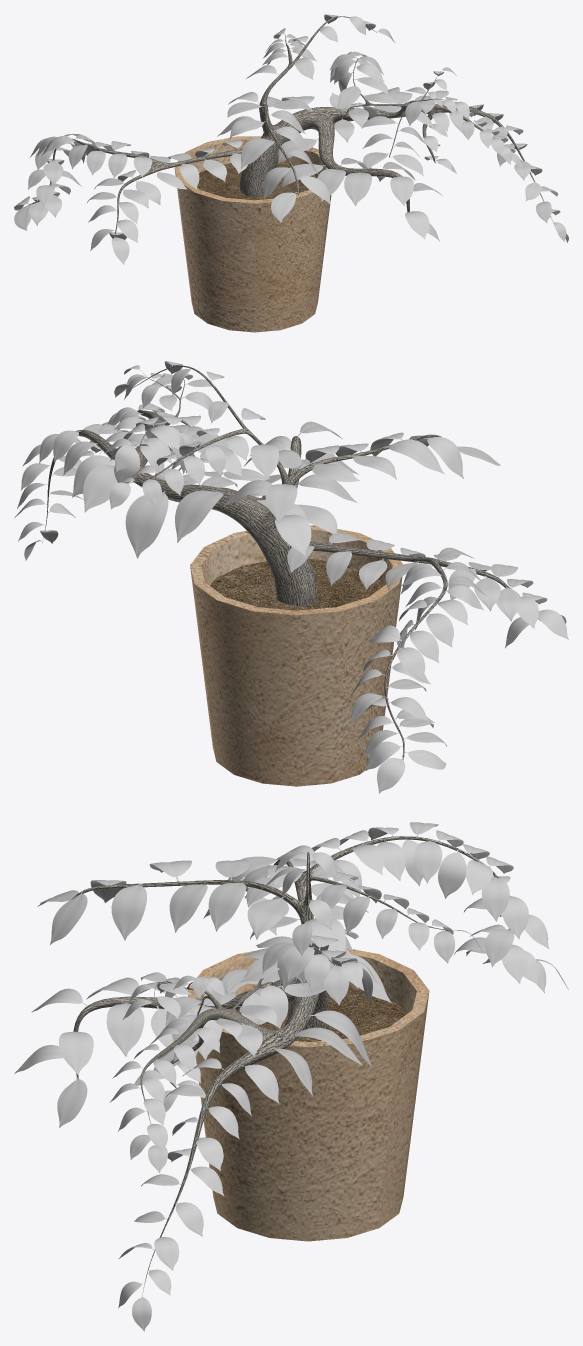
File: potted_plant.fbx
3 views of the same model, one above another, from view 1: azimuth 30°, elevation 25°; view 2: azimuth 150°, elevation 25°; view 3: azimuth 270°, elevation 25° (orthographic). The views are drawn at different scales.
Parts seen in each view (by area): view 1: pCylinder1, pCube3, pDisc1, pPlane141, pPlane159, pPlane157, pPlane139, pPlane143, pPlane144, pPlane137, pPlane160, pPlane158; view 2: pCylinder1, pCube3, pDisc1, pPlane3, pPlane177, pPlane134, pPlane175, pPlane174, pPlane159, pPlane160, pPlane173, pPlane26 (+10 smaller); view 3: pCylinder1, pCube3, pDisc1, pPlane140, pPlane161, pPlane164, pPlane162, pPlane138, pPlane166, pPlane158, pPlane136, pPlane47 (+17 smaller).
Boxes of the visible parts, x1,y1,x2,y2 form: pCylinder1: (174,136,331,332); pCube3: (28,16,553,237); pDisc1: (197,163,316,200); pPlane141: (344,172,371,206); pPlane159: (241,138,274,168); pPlane157: (271,192,297,222); pPlane139: (390,176,413,205); pPlane143: (282,164,325,188); pPlane144: (317,169,345,201); pPlane137: (405,211,429,239); pPlane160: (263,167,291,199); pPlane158: (297,176,330,205); pCylinder1: (190,525,403,786); pCube3: (42,365,539,760); pDisc1: (210,559,383,610); pPlane3: (125,491,168,558); pPlane177: (175,490,225,542); pPlane134: (83,465,117,512); pPlane175: (275,514,311,556); pPlane174: (265,484,297,522); pPlane159: (384,439,444,474); pPlane160: (423,437,463,478); pPlane173: (250,444,278,479); pPlane26: (377,758,405,793); pCylinder1: (187,946,429,1241); pCube3: (71,836,509,1295); pDisc1: (237,987,406,1041); pPlane140: (106,1002,144,1056); pPlane161: (111,883,146,940); pPlane164: (208,882,246,931); pPlane162: (169,884,208,932); pPlane138: (59,1031,93,1075); pPlane166: (247,897,288,939); pPlane158: (50,891,87,944); pPlane136: (57,1076,87,1127); pPlane47: (438,850,466,898).
Bounding box in the file's own units: 35.23 × 20.47 × 25.38.
